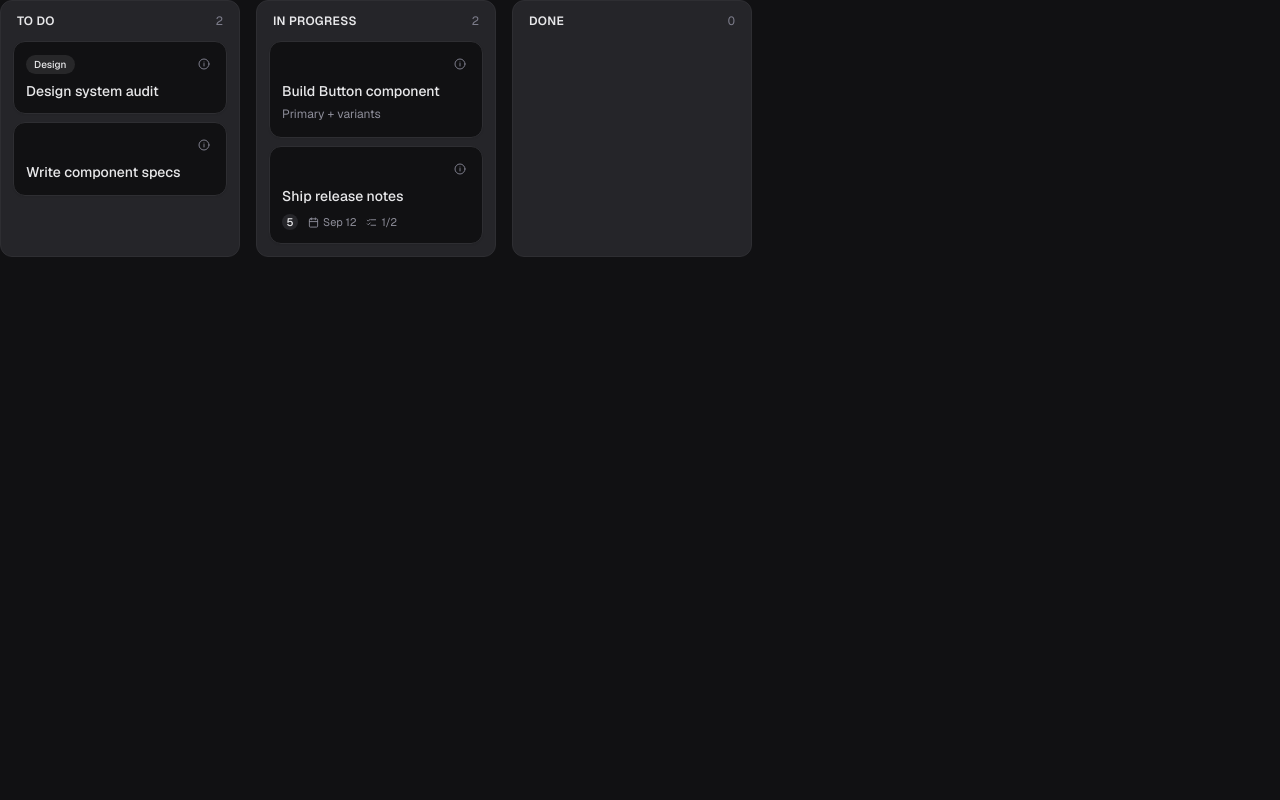
it: KanbanBoard › opens a details popup pre-filled with the card title and description when clicked
Click the text "Build Button component" at (361, 91), box [282, 82, 440, 100]
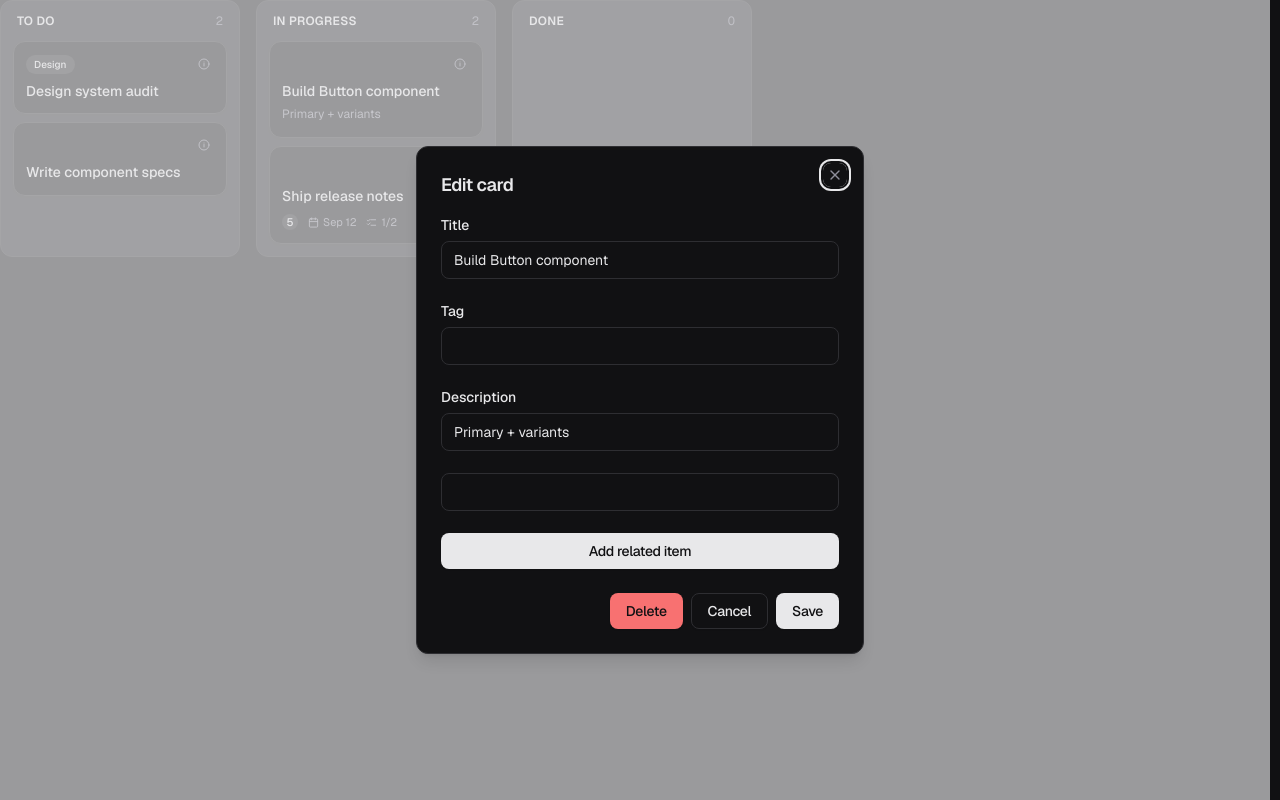
Now the dialog is shown
Now the field labelled "Title" holds "Build Button component", box [441, 241, 839, 279]
Now the field labelled "Description" holds "Primary + variants", box [441, 413, 839, 451]
